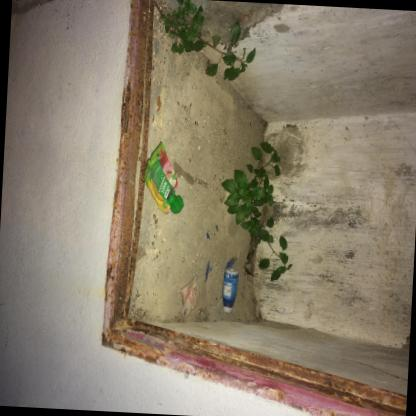Plastic: (143, 140, 182, 213), (179, 273, 198, 318), (221, 267, 237, 312), (223, 257, 236, 270), (203, 260, 208, 282), (205, 232, 208, 238), (208, 265, 210, 272), (214, 225, 216, 231)
